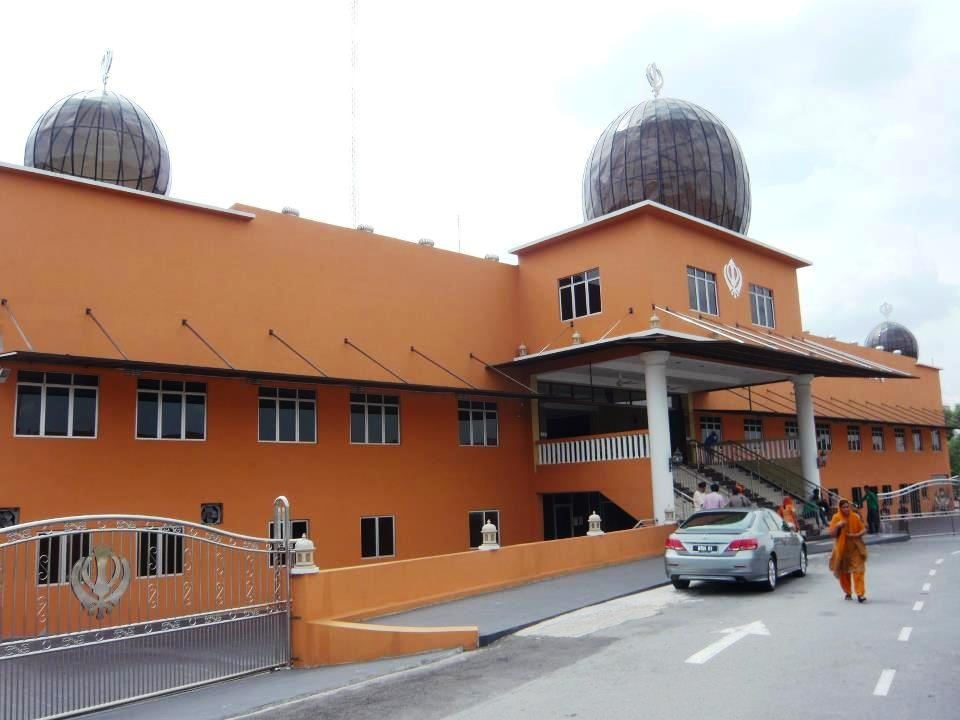Gurdwara: (3, 37, 951, 559)
